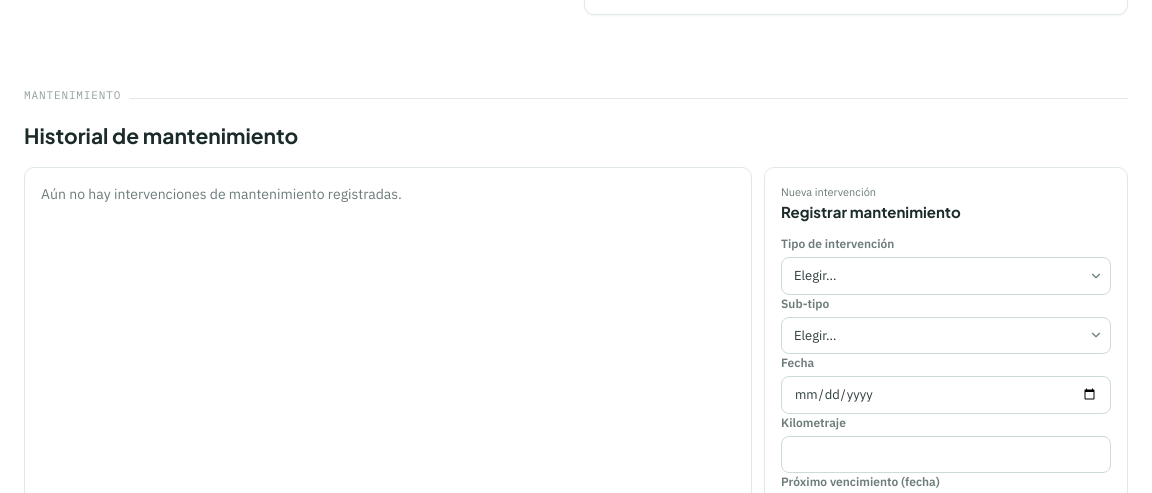
VehiculoDetail — modo edición › muestra el error del repository si actualizar() del historial de mantenimiento falla
(page scrolled)
Step 1. Select "Preventivo" in the dropdown labelled "Tipo de intervención" → (946, 276), box x1=781 y1=257 x2=1111 y2=294
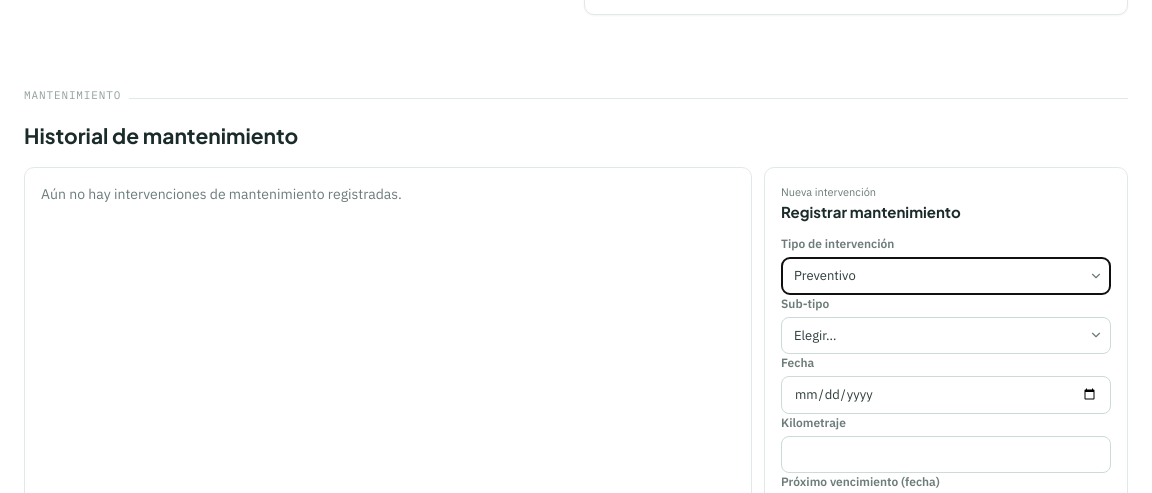
Step 2. Select "VTV" in the dropdown labelled "Sub-tipo" → (946, 335), box x1=781 y1=316 x2=1111 y2=354
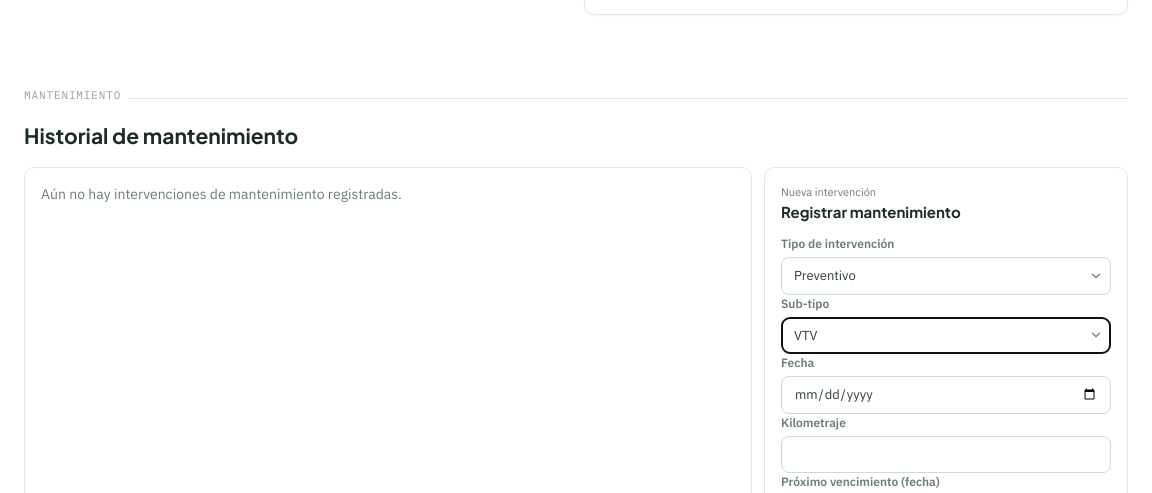
Step 3. Type "2026-07-20" into the date field labelled "Fecha" → (946, 395), box x1=781 y1=376 x2=1111 y2=414
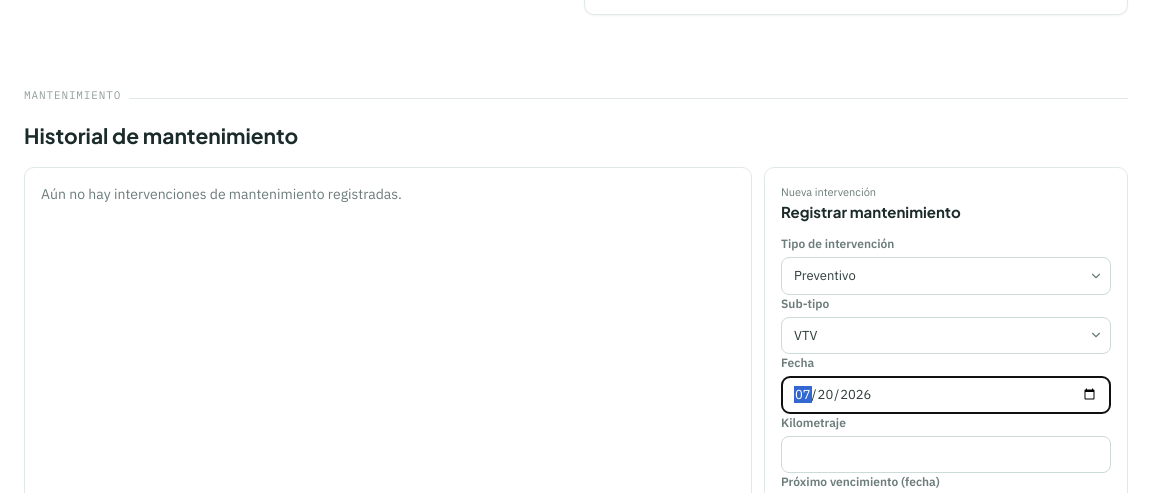
Step 4. Type "90000" into the number field labelled "Kilometraje" → (946, 454), box x1=781 y1=436 x2=1111 y2=473
(page scrolled)
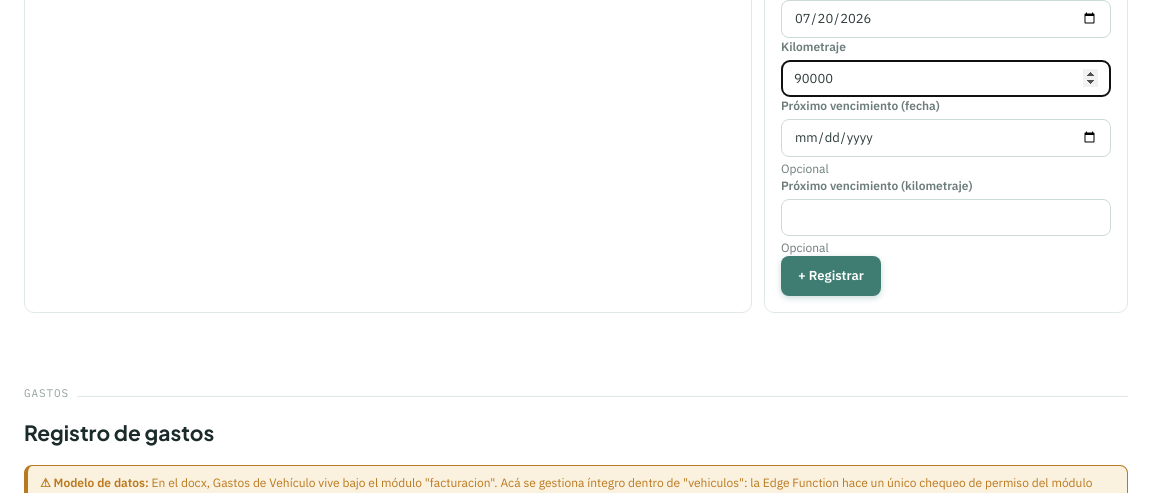
Step 5. Click the button "+ Registrar" → click(831, 276), box x1=781 y1=256 x2=881 y2=296
(page scrolled)
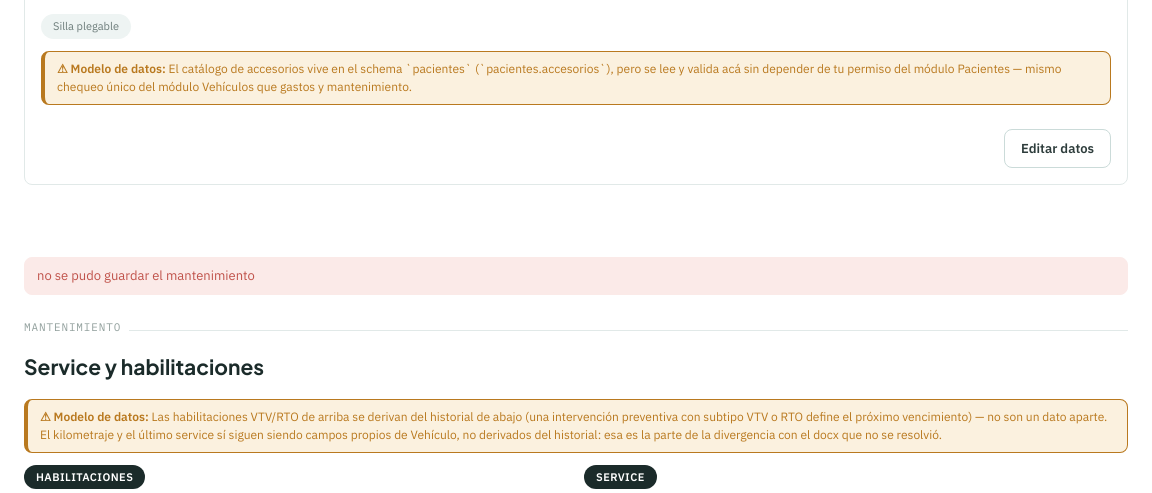
Expected: the text "no se pudo guardar el mantenimiento" is shown, x1=24 y1=257 x2=1128 y2=294
